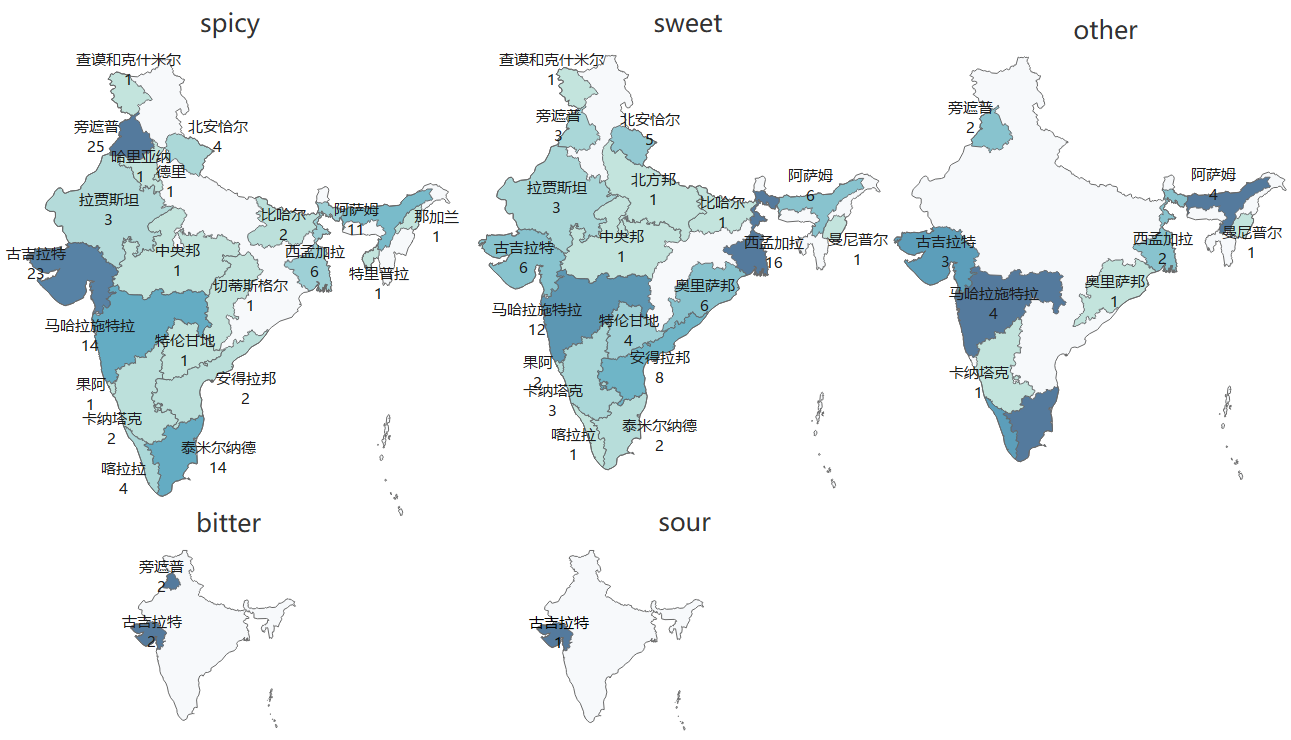

What the dashboard file says about the page in this screenshot:
{"tool":"tableau","page":{"name":"各州风味","canvas":[1000,1000],"units":"permille","ordinal":3},"visuals":[{"type":"worksheet","title":"spicy","mark":"Automatic","box":[2.4,0,289.7,974.5]},{"type":"worksheet","title":"sweet","mark":"Automatic","box":[279.4,0,295.8,813]},{"type":"worksheet","title":"other","mark":"Automatic","box":[549.2,8.1,260.1,556.3]},{"type":"worksheet","title":"sour","mark":"Automatic","box":[194.9,579.6,460.5,328.7]}]}

Visuals, with their boxes on the dashboard's canvas, which has no fixed pixel size, in thousandths of its width and height (x1, y1, x2, y2). These are canvas units, not pixel positions in the 1291x740 screenshot, which may show the page scaled, cropped or inside an application window:
"spicy" worksheet: pyautogui.locateOnScreen(2, 0, 292, 974)
"sweet" worksheet: pyautogui.locateOnScreen(279, 0, 575, 813)
"other" worksheet: pyautogui.locateOnScreen(549, 8, 809, 564)
"sour" worksheet: pyautogui.locateOnScreen(195, 580, 655, 908)
